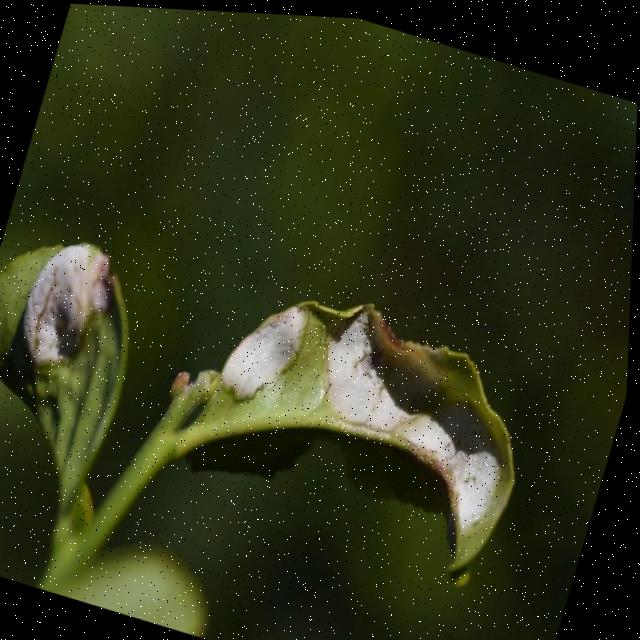Tea cake: (298, 275, 566, 524), (216, 269, 324, 396), (19, 238, 120, 370)
